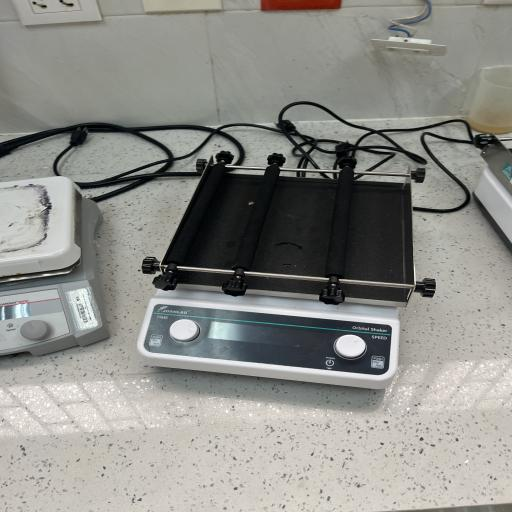Agitador_Orbital_DLAB: (117, 143, 459, 397)
